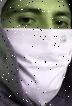with_mask: (1, 1, 72, 106)
